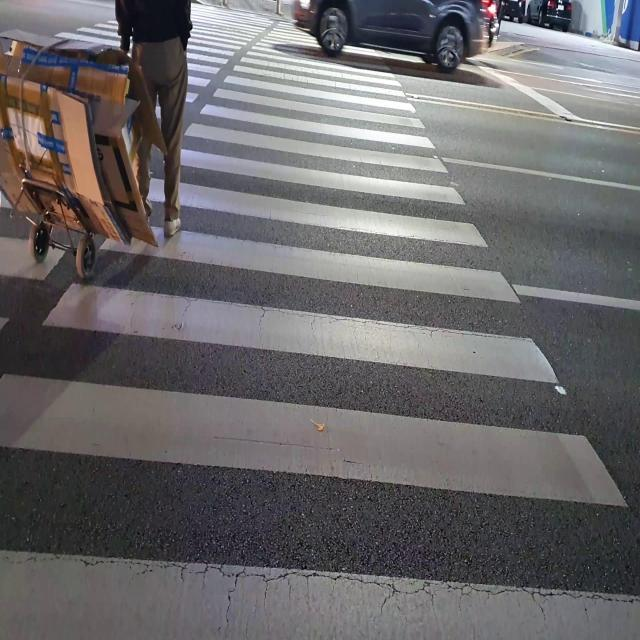crosswalk: (0, 0, 640, 638)
